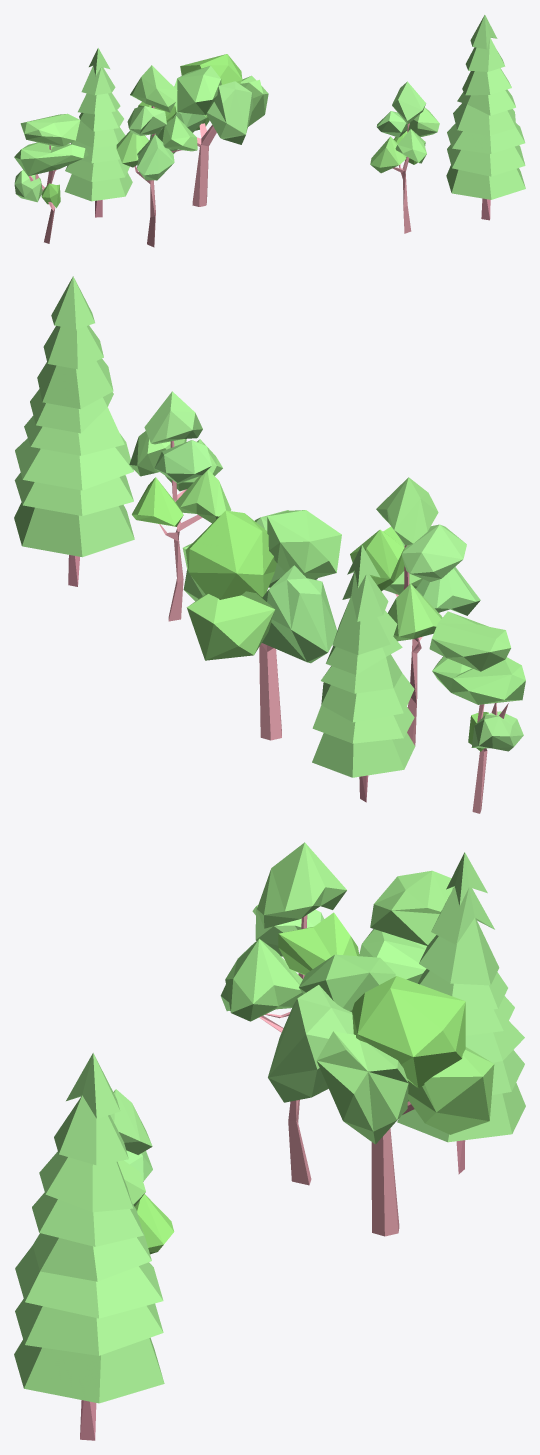
The model's file is ForestSideRails2.fbx.
3 renders of one model, top to bottom at view 1: azimuth 30°, elevation 25°; view 2: azimuth 150°, elevation 25°; view 3: azimuth 270°, elevation 25°, orthographic. The views are drawn at different scales.
Visible parts, largest first — view 1: Forest.017; view 2: Forest.017; view 3: Forest.017.
Part boxes in pixels (left/top/right/bottom): Forest.017: left=14, top=15, right=525, bottom=247; Forest.017: left=14, top=276, right=525, bottom=813; Forest.017: left=14, top=842, right=525, bottom=1440.
Size of the model in its own units: 767 by 358 by 430.
